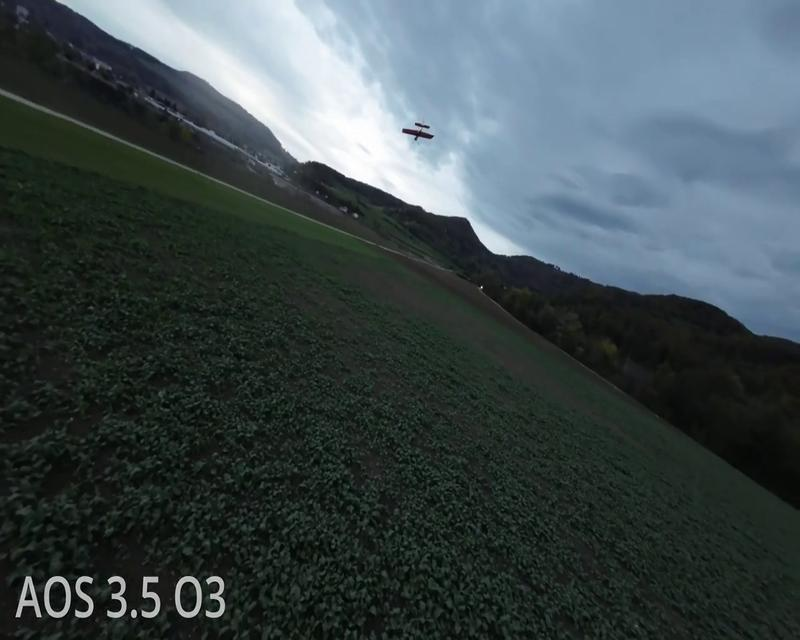UAV: (401, 119, 434, 142)
